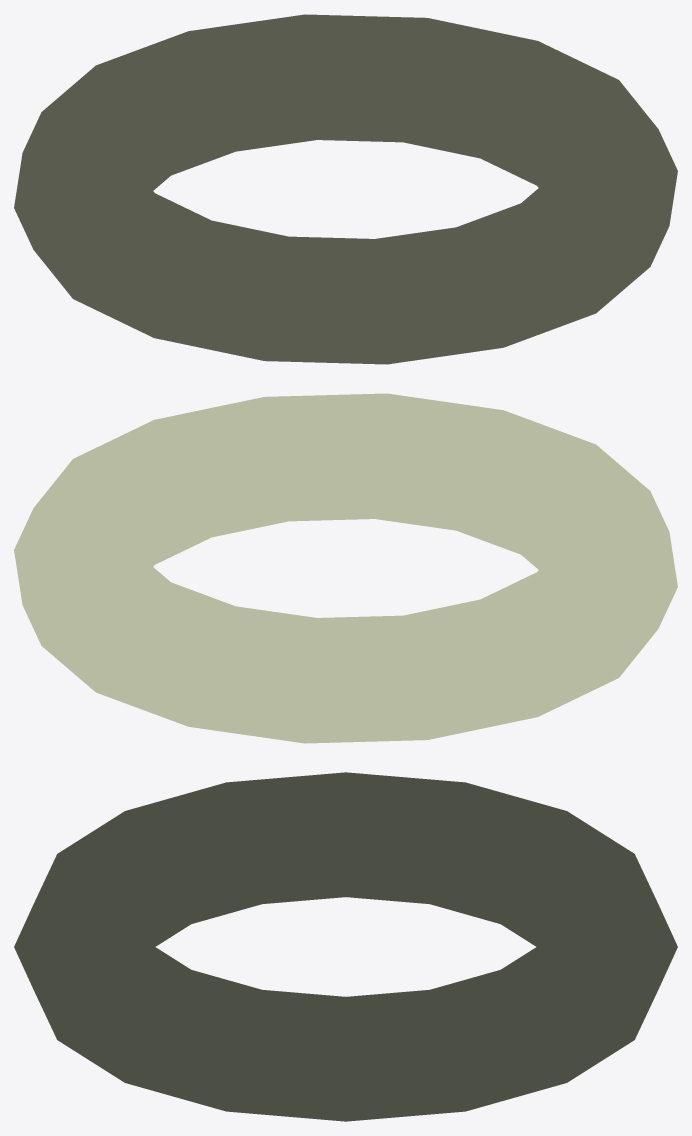
The picture shows the model from 3 angles, top to bottom: view 1: azimuth 30°, elevation 25°; view 2: azimuth 150°, elevation 25°; view 3: azimuth 270°, elevation 25°; orthographic projection.
Visible parts, largest first — view 1: Torus1-0; view 2: Torus1-0; view 3: Torus1-0.
Boxes of the visible parts, <box> form: Torus1-0: <box>14,14,677,364</box>; Torus1-0: <box>14,393,677,743</box>; Torus1-0: <box>14,772,677,1121</box>.
Bounding box in the file's own units: 2.5 × 0.5 × 2.5.
